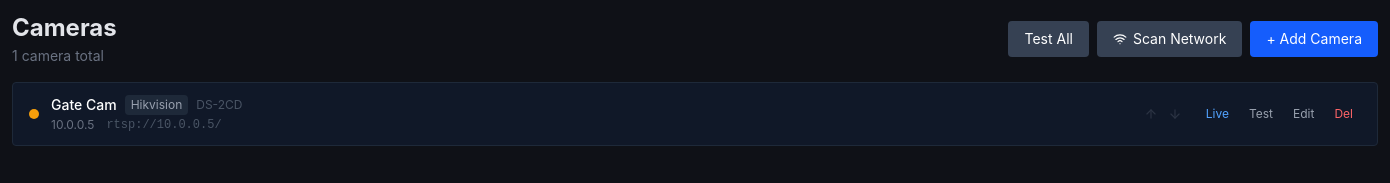
Test: Cameras page › shows auth failure label after individual test
Expected: the text "Gate Cam" is shown, [51, 95, 117, 115]
Click the button "Test All" at (1049, 39), box [1008, 21, 1089, 57]
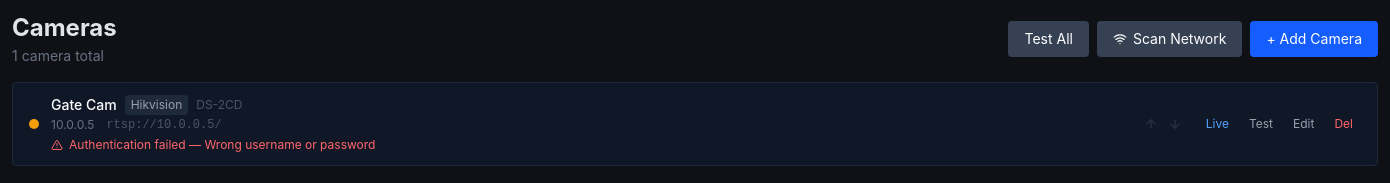
Expected: the text "Authentication failed — Wrong username or password" is shown, [69, 137, 375, 153]
